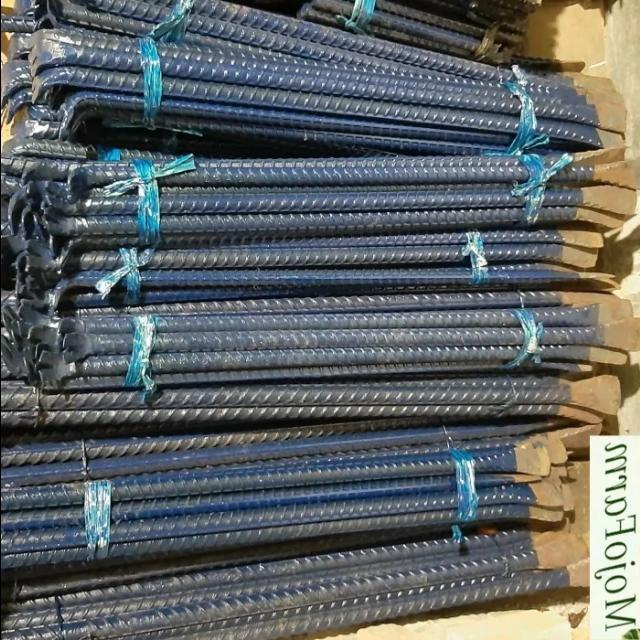Linggis: (64, 292, 600, 371)
